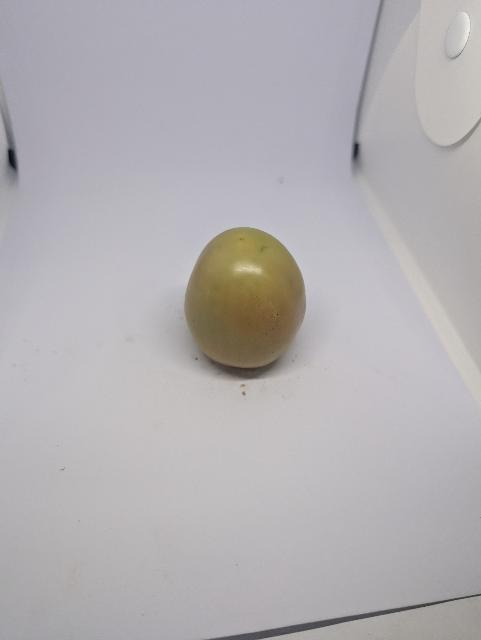breaker: (182, 221, 312, 376)
